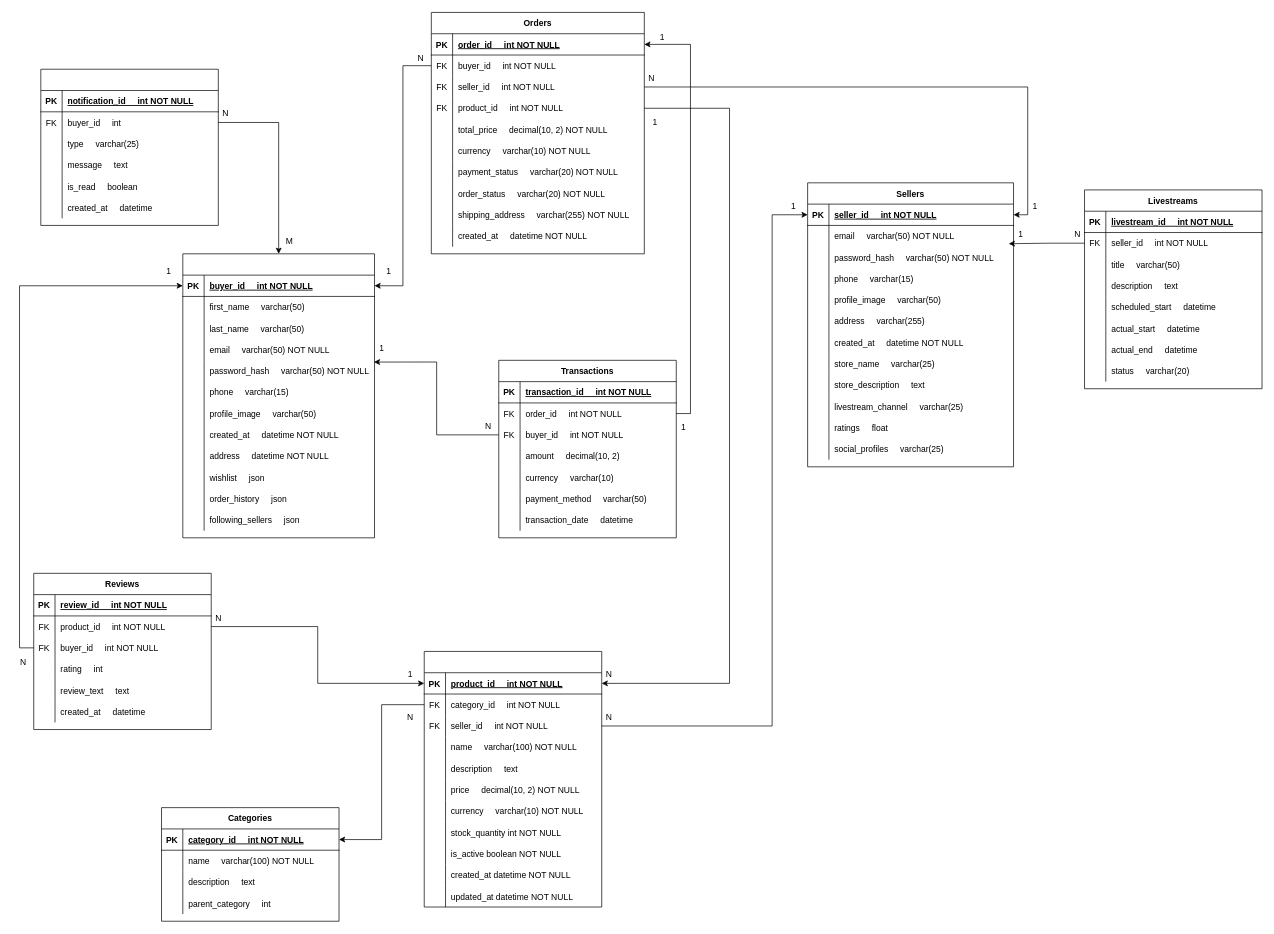
This 1274x934 diagram has some shape labels left out. Here are the shapes that lost their labels. From the top down, the box of each, then its label:
(40, 69, 218, 225): Notifications
(182, 253, 375, 538): Buyers
(424, 651, 602, 907): Products
